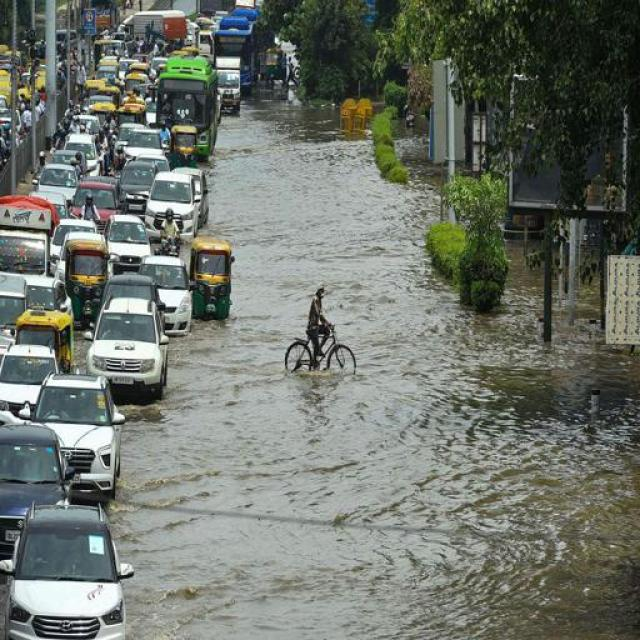puddle: (142, 397, 631, 636), (223, 112, 307, 636), (268, 104, 437, 299)
